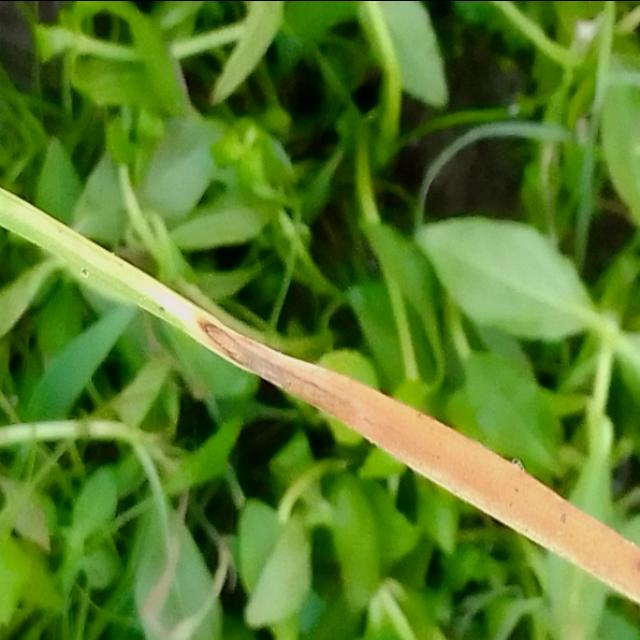Hawar Daun Bakteri: (145, 279, 640, 640)
